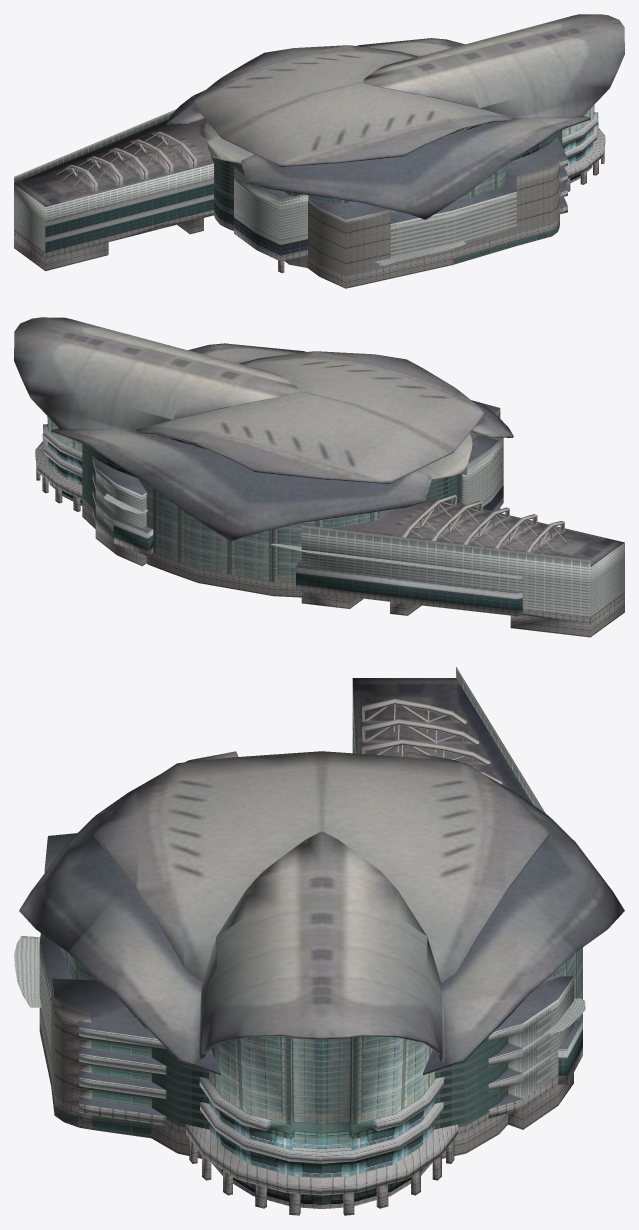
Rendered from ECC_HighLOD.dae.
3 views of the same model, one above another, from view 1: azimuth 30°, elevation 25°; view 2: azimuth 150°, elevation 25°; view 3: azimuth 270°, elevation 25° (orthographic). The views are drawn at different scales.
Parts seen in each view (by area): view 1: ECC; view 2: ECC; view 3: ECC.
Boxes of the visible parts, <box> form: ECC: <box>14,14,624,288</box>; ECC: <box>14,317,624,637</box>; ECC: <box>14,667,624,1215</box>.
Bounding box in the file's own units: 77.91 × 44.56 × 15.99.
Materials: 1 (1 with a texture image).
